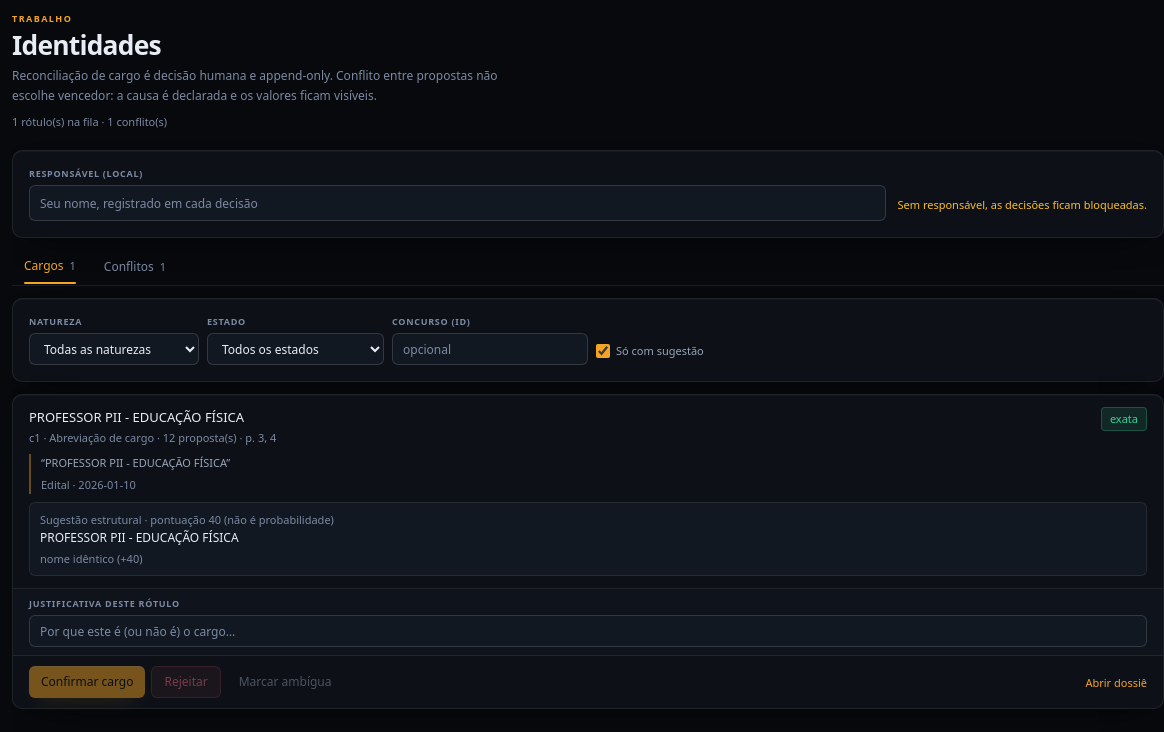
Test: página de Identidades › aba de conflitos mostra a causa e a próxima ação
The width and height of the screenshot is (1164, 732).
Click the tab "Conflitos1" at (135, 267), box x1=92 y1=250 x2=178 y2=284
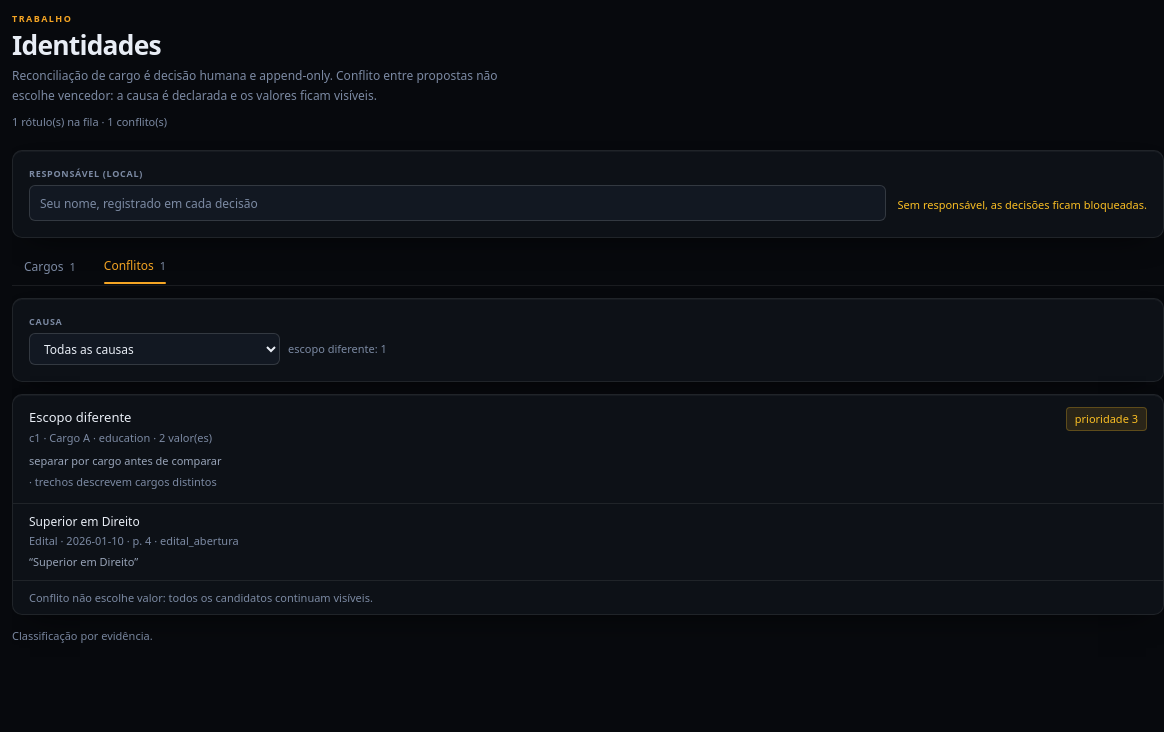
Expected: the element that starts with "Escopo diferente" is shown, x1=29 y1=408 x2=132 y2=426
Expected: the element that starts with "Escopo diferente" shows "separar por cargo antes de comparar", x1=29 y1=453 x2=222 y2=468
Expected: the element that starts with "Escopo diferente" shows "Superior em Direito", x1=29 y1=512 x2=140 y2=530
